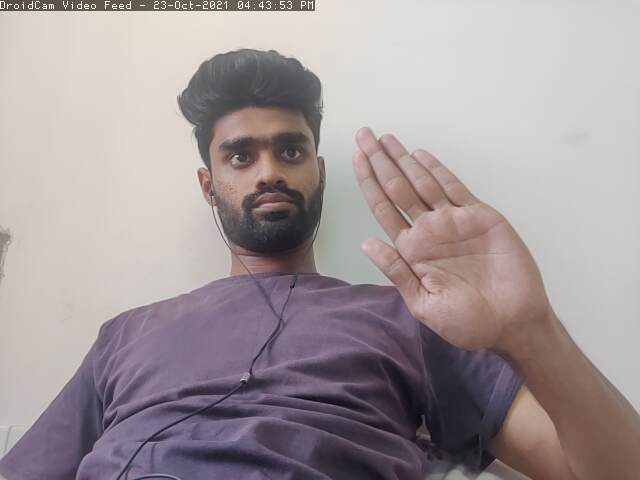Stop: (345, 121, 553, 349)
